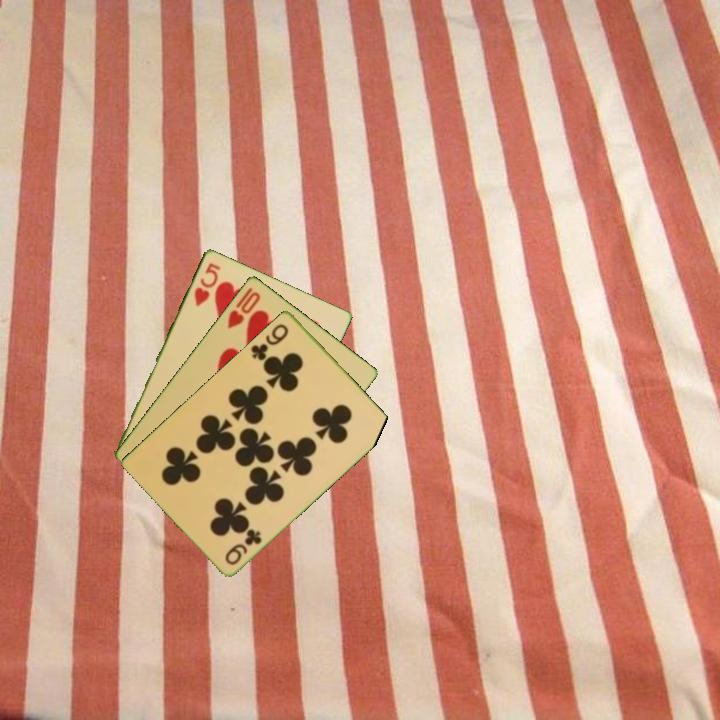10h: (223, 287, 263, 331)
5h: (190, 259, 223, 309)
9c: (247, 320, 292, 363), (221, 525, 265, 568)
